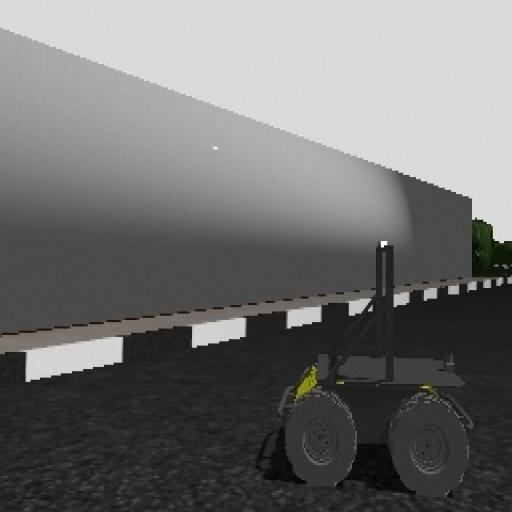huskya200: (252, 231, 490, 493)
